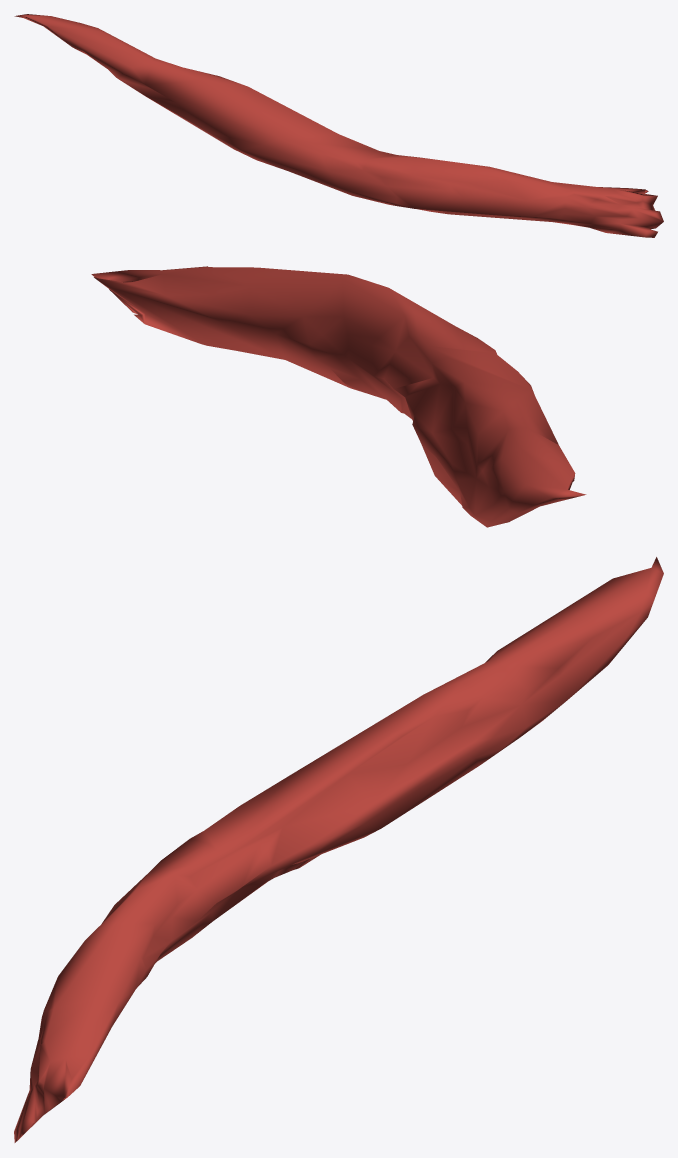
File: musculos-subclavius-muscle-r.glb
The picture shows the model from 3 angles, top to bottom: view 1: azimuth 30°, elevation 25°; view 2: azimuth 150°, elevation 25°; view 3: azimuth 270°, elevation 25°; orthographic projection. The views are drawn at different scales.
Visible parts, largest first — view 1: Subclavius muscle.r; view 2: Subclavius muscle.r; view 3: Subclavius muscle.r.
Part boxes in pixels (x1,y1,x2,y2): Subclavius muscle.r: (14,14,663,237); Subclavius muscle.r: (91,266,586,527); Subclavius muscle.r: (14,557,663,1142).
Bounding box in the file's own units: 0.0747 × 0.0277 × 0.0616.
